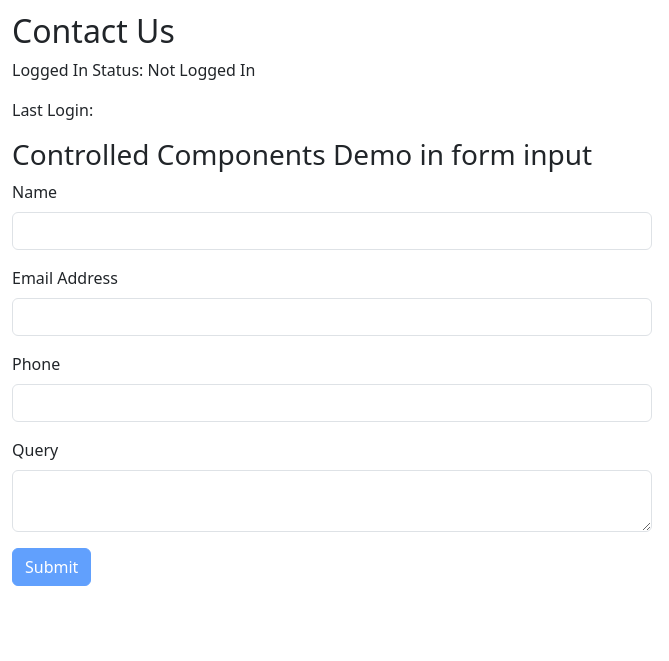
ContactUsPage › has submit button and on click shows success message
Type "abc" into the field labelled "Name" at (332,231), box [12,212,652,250]
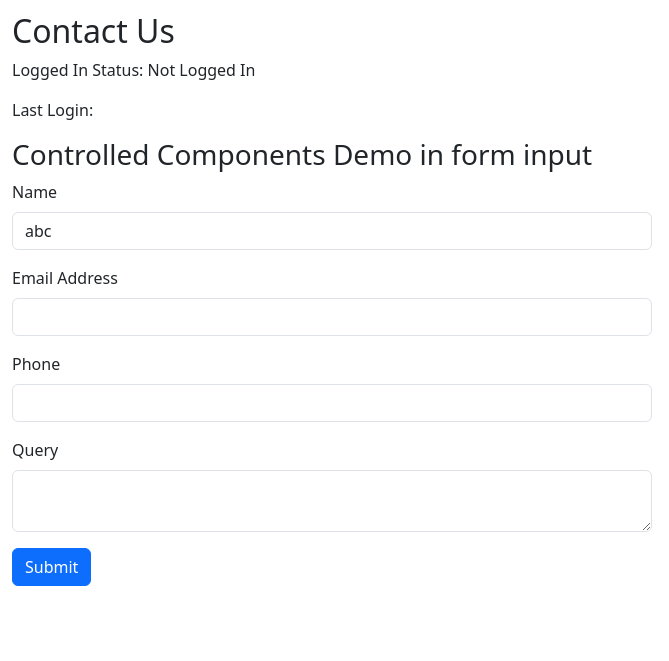
Click the button at (52,567), box [12,548,91,586]
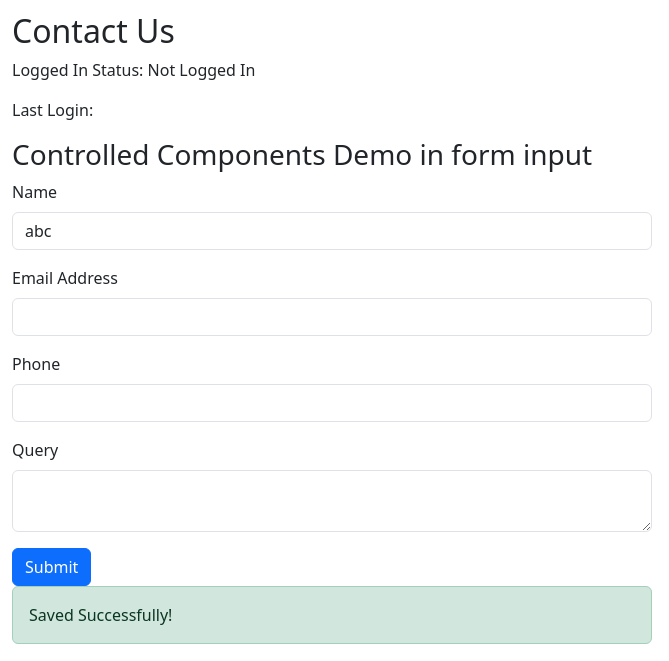
expect the text "Saved Successfully!" is shown: met, box [12,586,652,644]
